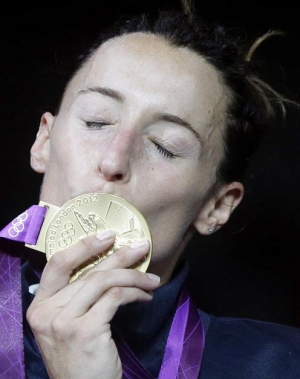face: (44, 43, 206, 275)
